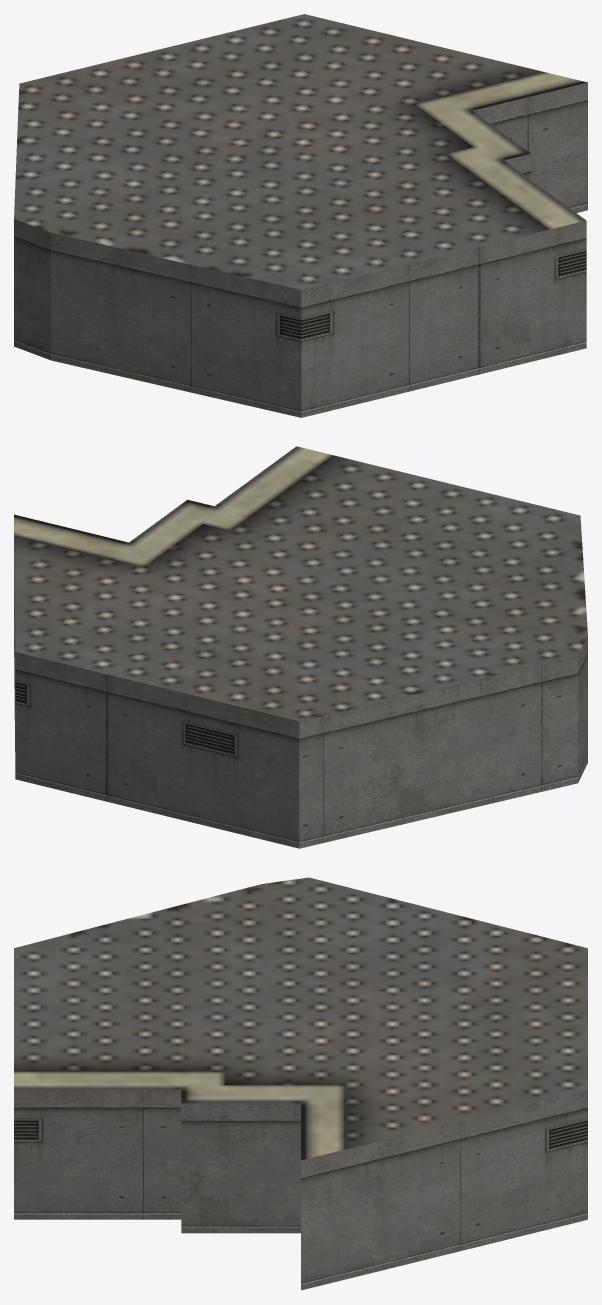
File: building_medium_a_59.glb
The picture shows the model from 3 angles, top to bottom: view 1: azimuth 30°, elevation 25°; view 2: azimuth 150°, elevation 25°; view 3: azimuth 270°, elevation 25°; orthographic projection. The views are drawn at different scales.
Visible parts, largest first — view 1: buildings/saxarba/building_medium/building_medium_a_59; view 2: buildings/saxarba/building_medium/building_medium_a_59; view 3: buildings/saxarba/building_medium/building_medium_a_59.
Boxes of the visible parts, <box> form: buildings/saxarba/building_medium/building_medium_a_59: <box>14,14,587,417</box>; buildings/saxarba/building_medium/building_medium_a_59: <box>14,446,587,848</box>; buildings/saxarba/building_medium/building_medium_a_59: <box>14,877,587,1290</box>.
Size of the model in its own units: 84 by 18 by 72.
